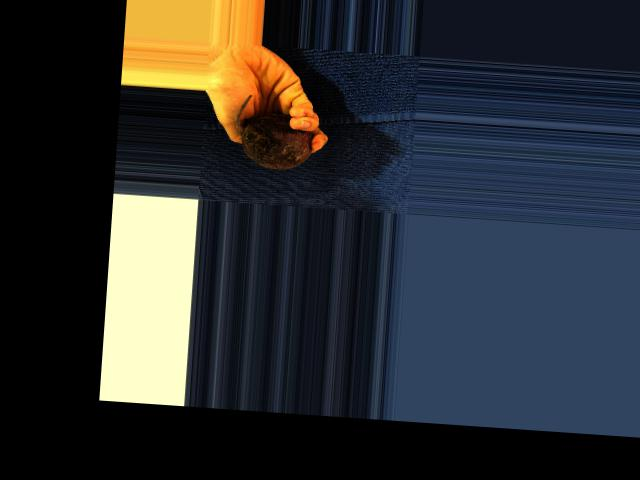beet: (232, 92, 315, 170)
